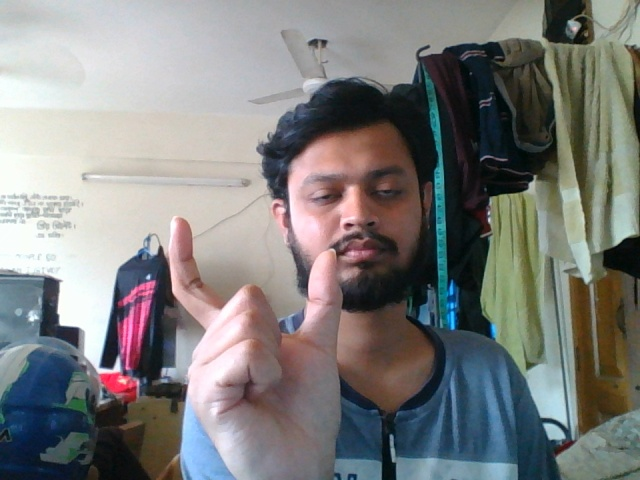chandrobindu: (153, 211, 360, 478)
